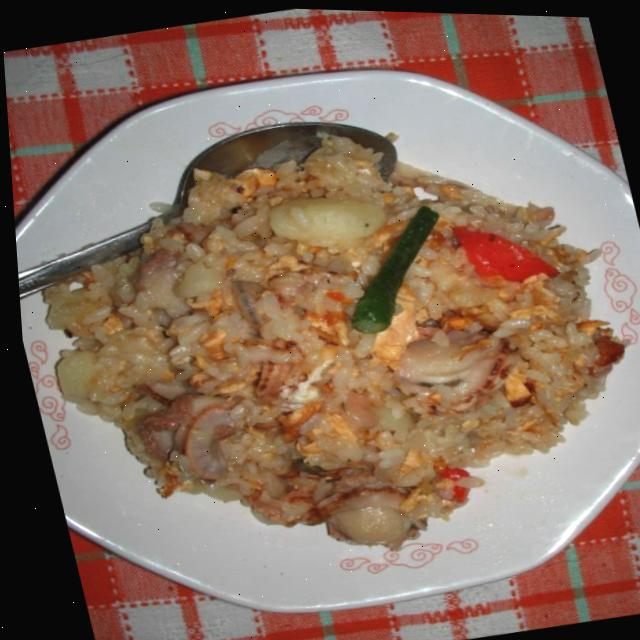米饭主食: (0, 3, 640, 640)
